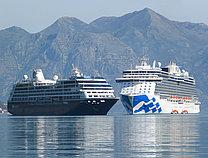Ship: (15, 65, 111, 116), (119, 61, 203, 115)
